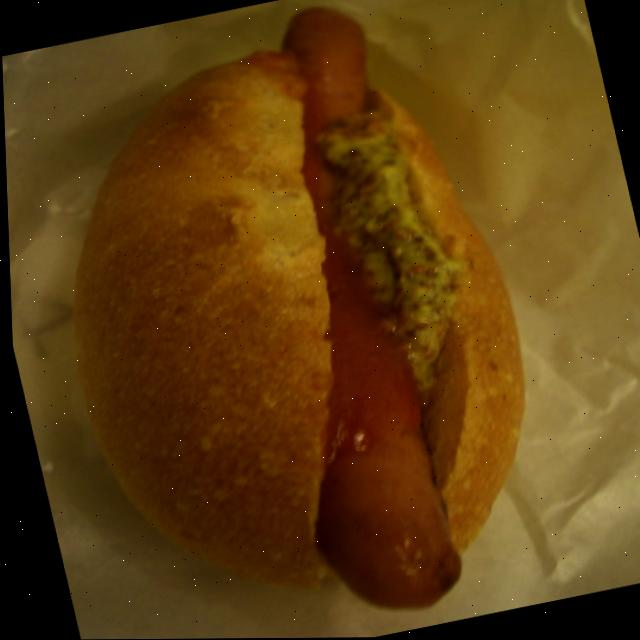汉堡快餐: (29, 4, 580, 640)
